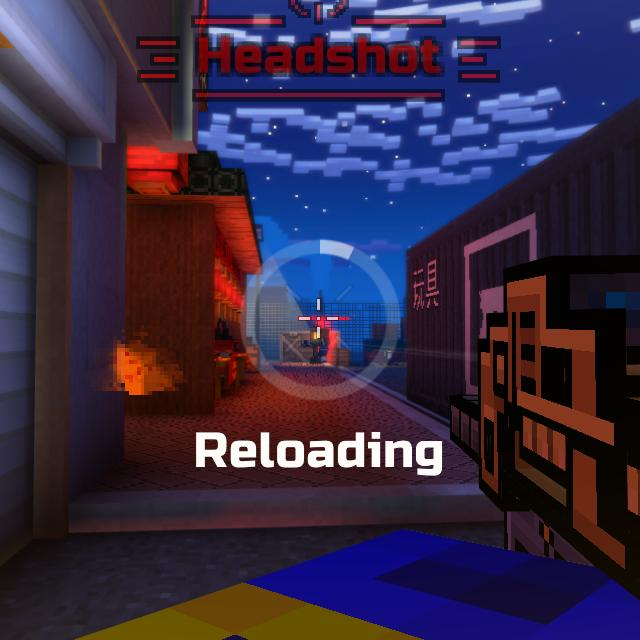Enemy: (312, 327, 330, 363)
